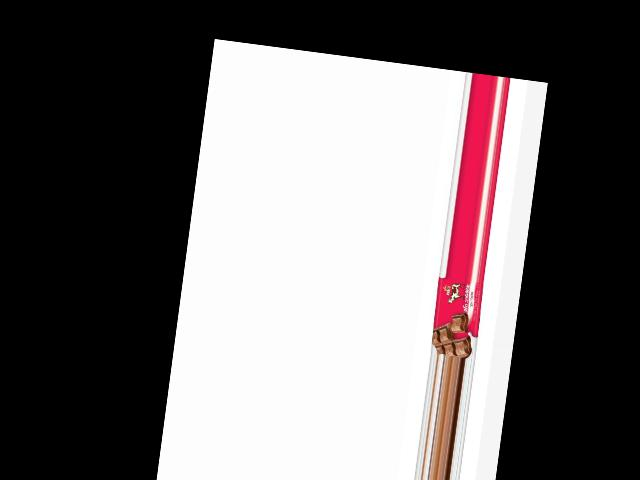chocolate: (430, 275, 485, 359)
